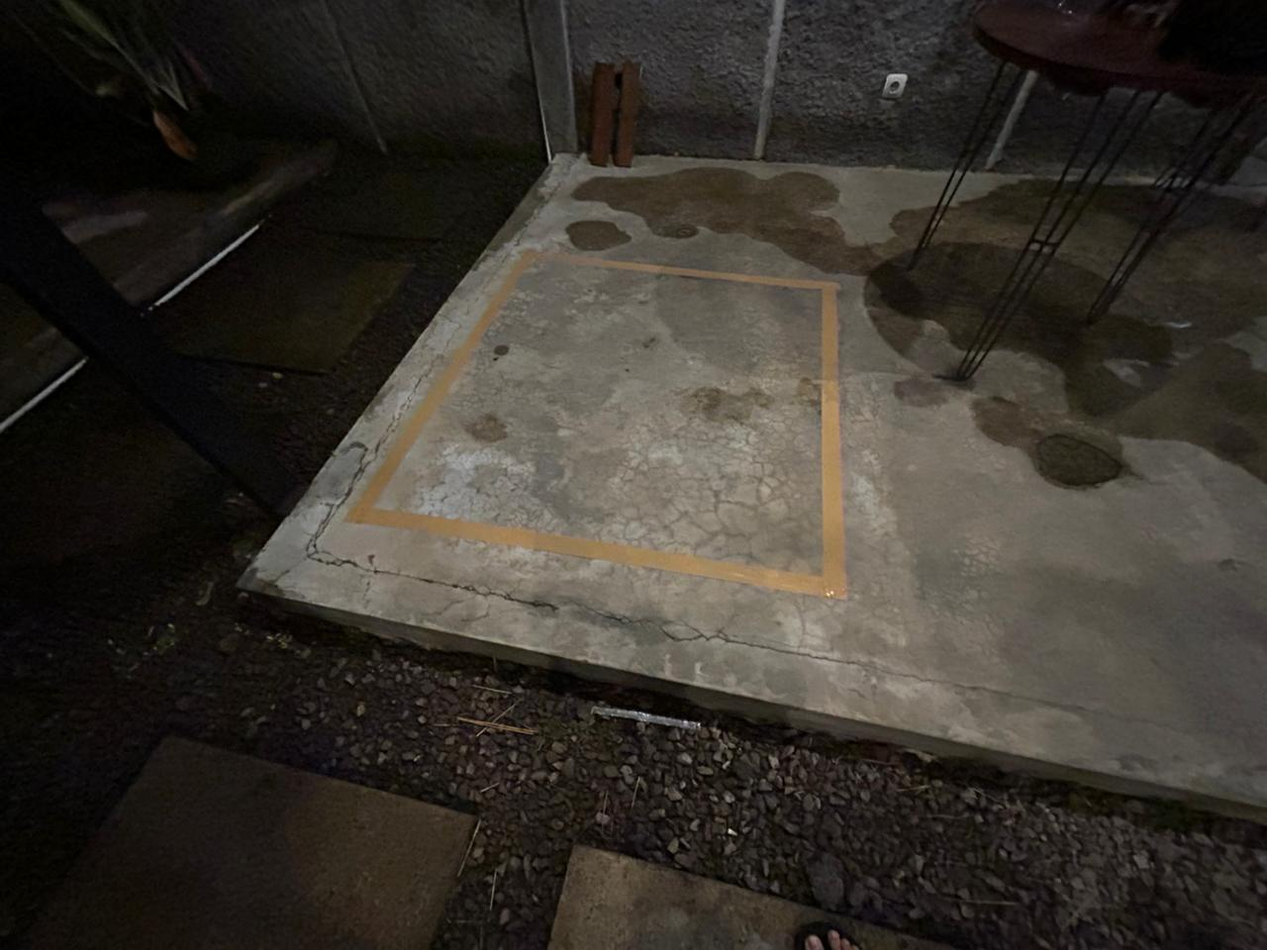floor marking: (344, 250, 846, 599)
